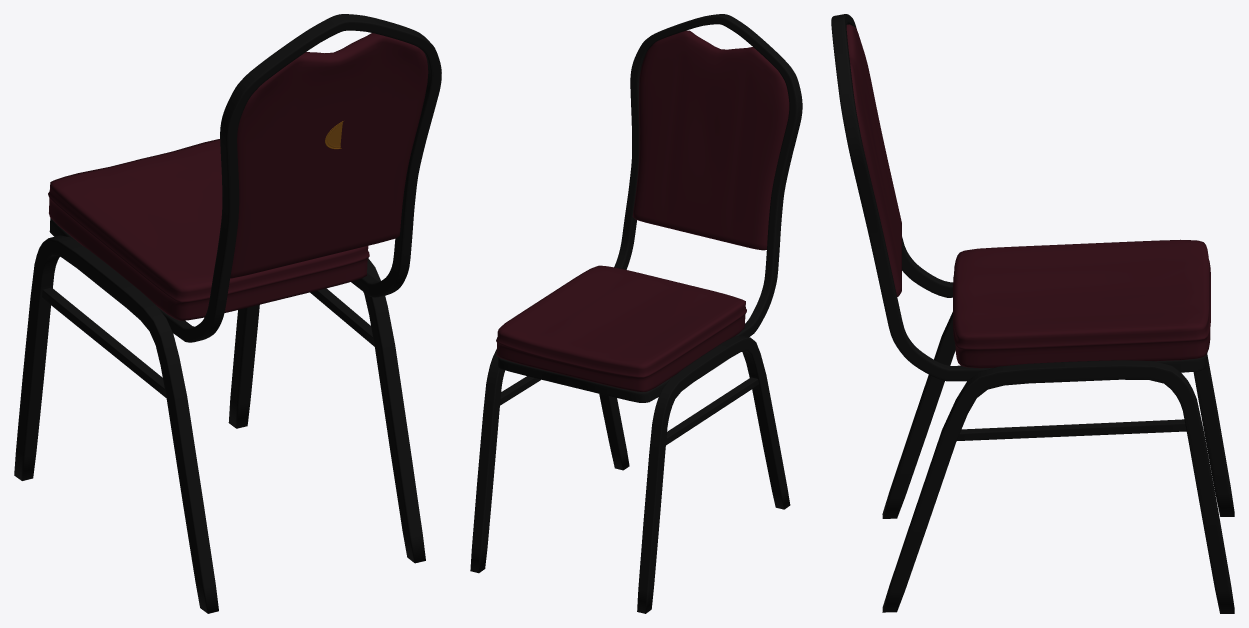
Rendered from Conference Chair.obj.
3 views of the same model, side by side, from view 1: azimuth 30°, elevation 25°; view 2: azimuth 150°, elevation 25°; view 3: azimuth 270°, elevation 25° (orthographic). The views are drawn at different scales.
Visible parts, largest first — view 1: Cube_Cube.001, Cube.002_Cube.003, Cube.001_Cube.002; view 2: Cube.002_Cube.003, Cube_Cube.001, Cube.001_Cube.002; view 3: Cube.001_Cube.002, Cube_Cube.001, Cube.002_Cube.003.
Part boxes in pixels (x1,y1,x2,y2): Cube_Cube.001: (14,14,441,613); Cube.002_Cube.003: (230,33,428,278); Cube.001_Cube.002: (48,139,369,320); Cube.002_Cube.003: (632,30,789,250); Cube_Cube.001: (470,14,802,613); Cube.001_Cube.002: (496,265,746,391); Cube.001_Cube.002: (953,239,1210,368); Cube_Cube.001: (831,14,1234,613); Cube.002_Cube.003: (846,24,901,296).
Size of the model in its own units: 2.94 by 7.26 by 4.88.
